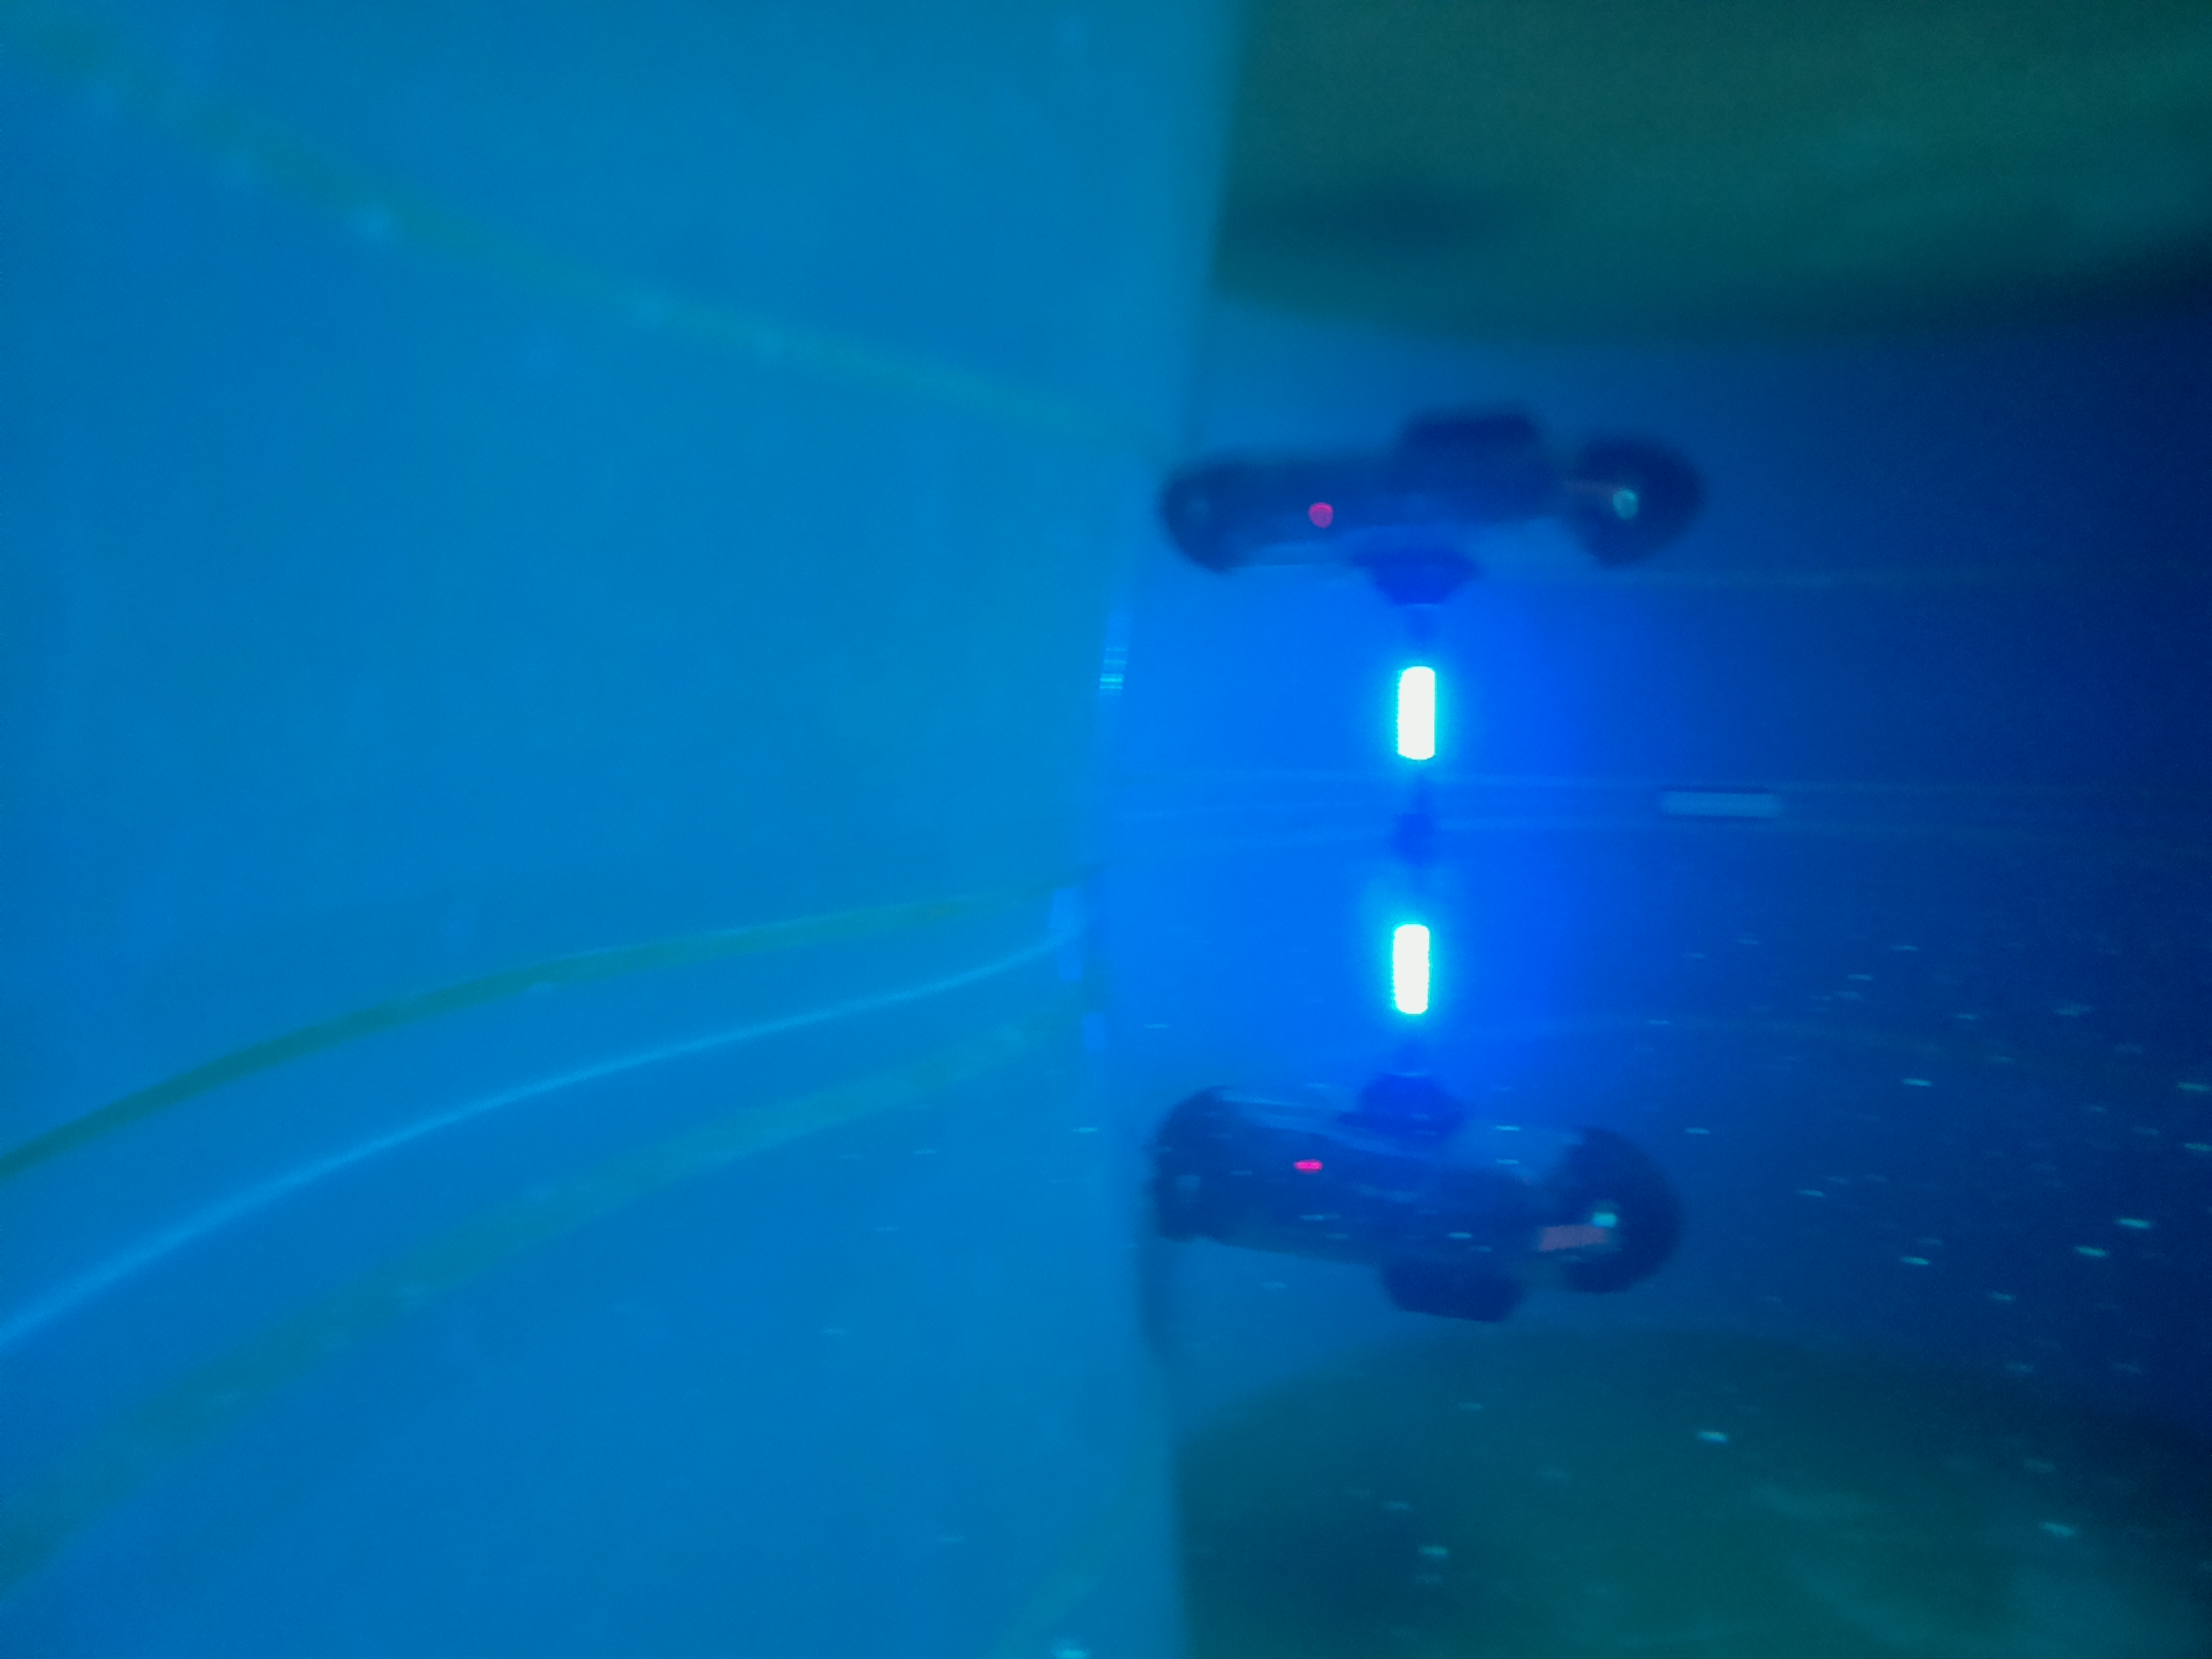blue: (1388, 871, 1433, 1086)
